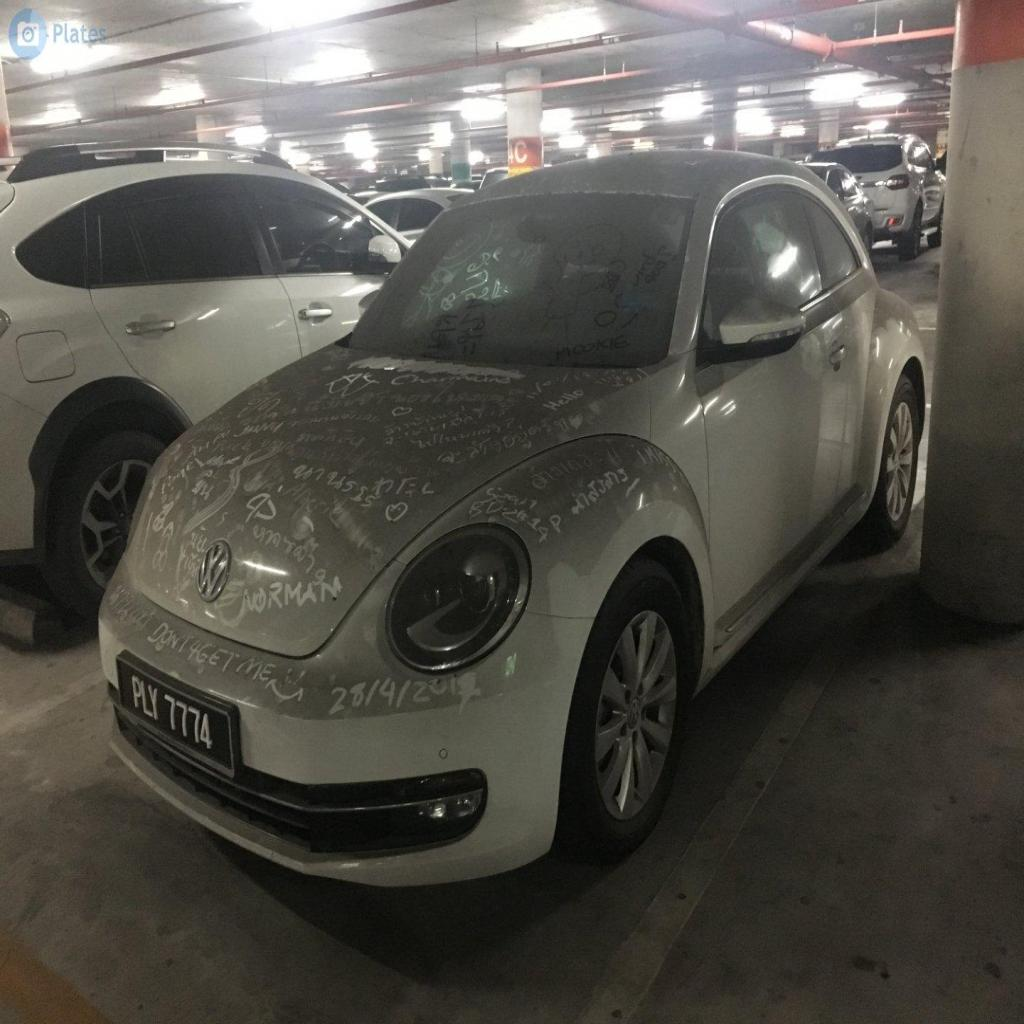car: (100, 152, 923, 883)
car plate: (118, 654, 238, 773)
